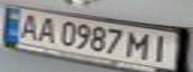0: (54, 18, 78, 47)
7: (103, 26, 127, 56)
8: (90, 24, 109, 53)
9: (72, 21, 93, 51)
A: (15, 10, 42, 39), (33, 15, 60, 43)
I: (145, 33, 175, 63)
M: (127, 29, 154, 61)
